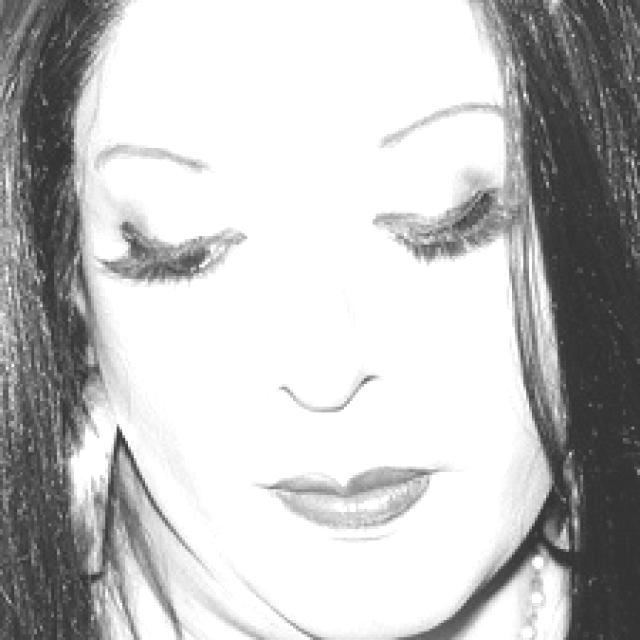real: (74, 5, 566, 640), (104, 188, 510, 276)
